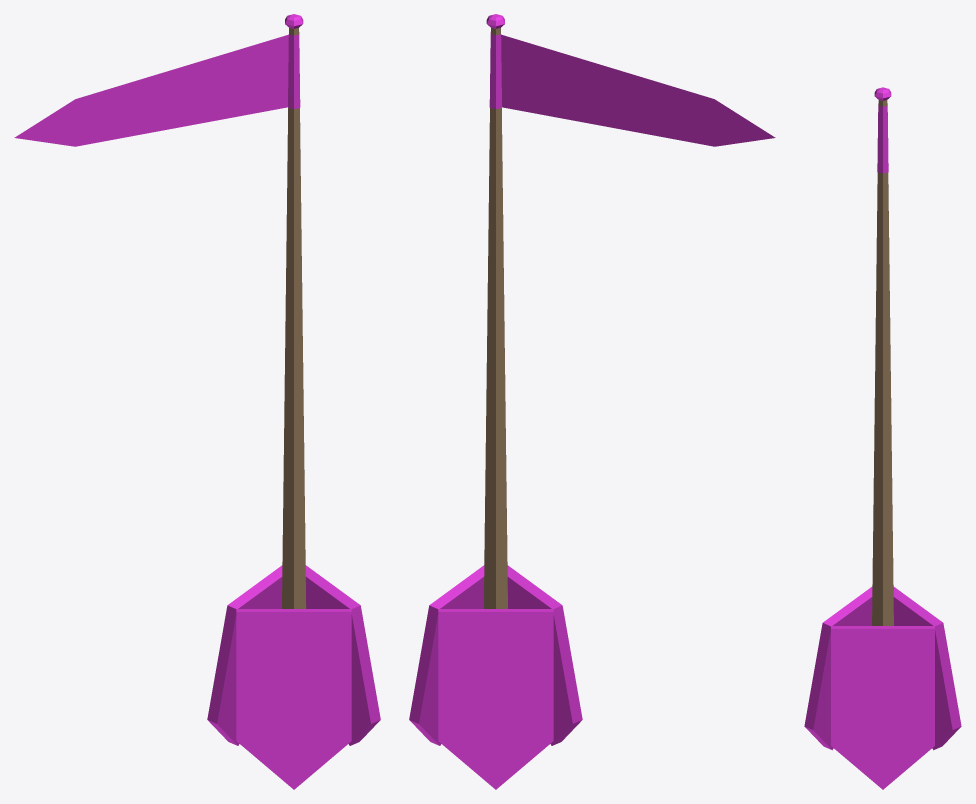
Rendered from Flag.gltf.
3 views of the same model, side by side, from view 1: azimuth 30°, elevation 25°; view 2: azimuth 150°, elevation 25°; view 3: azimuth 270°, elevation 25° (orthographic). The views are drawn at different scales.
Visible parts, largest first — view 1: flag_human_01; view 2: flag_human_01; view 3: flag_human_01.
Boxes of the visible parts, left/top/right/bottom form: flag_human_01: left=14, top=14, right=380, bottom=789; flag_human_01: left=409, top=14, right=775, bottom=789; flag_human_01: left=804, top=87, right=961, bottom=789.
Bounding box in the file's own units: 1.98 × 4.06 × 0.8593.
Materials: 1 (1 with a texture image).
